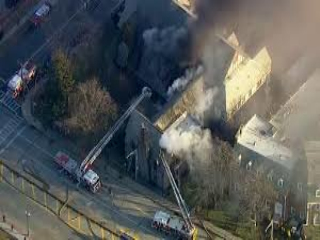smoke: (152, 73, 227, 169)
